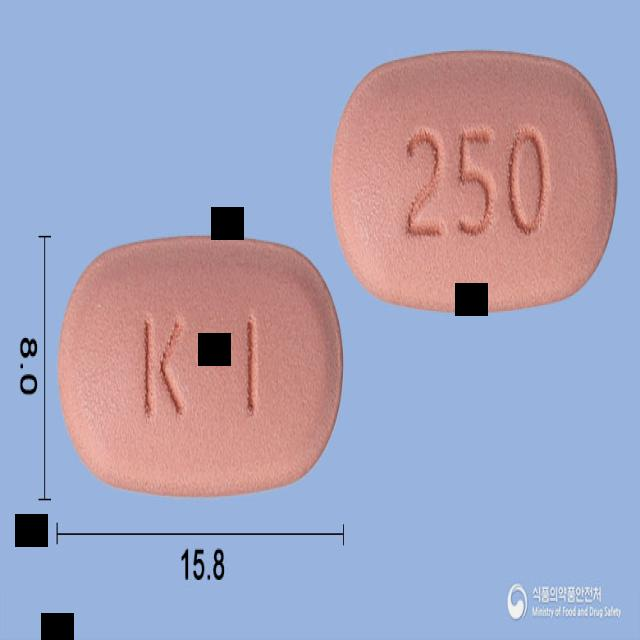Levogun: (332, 45, 618, 311), (56, 235, 344, 496)
